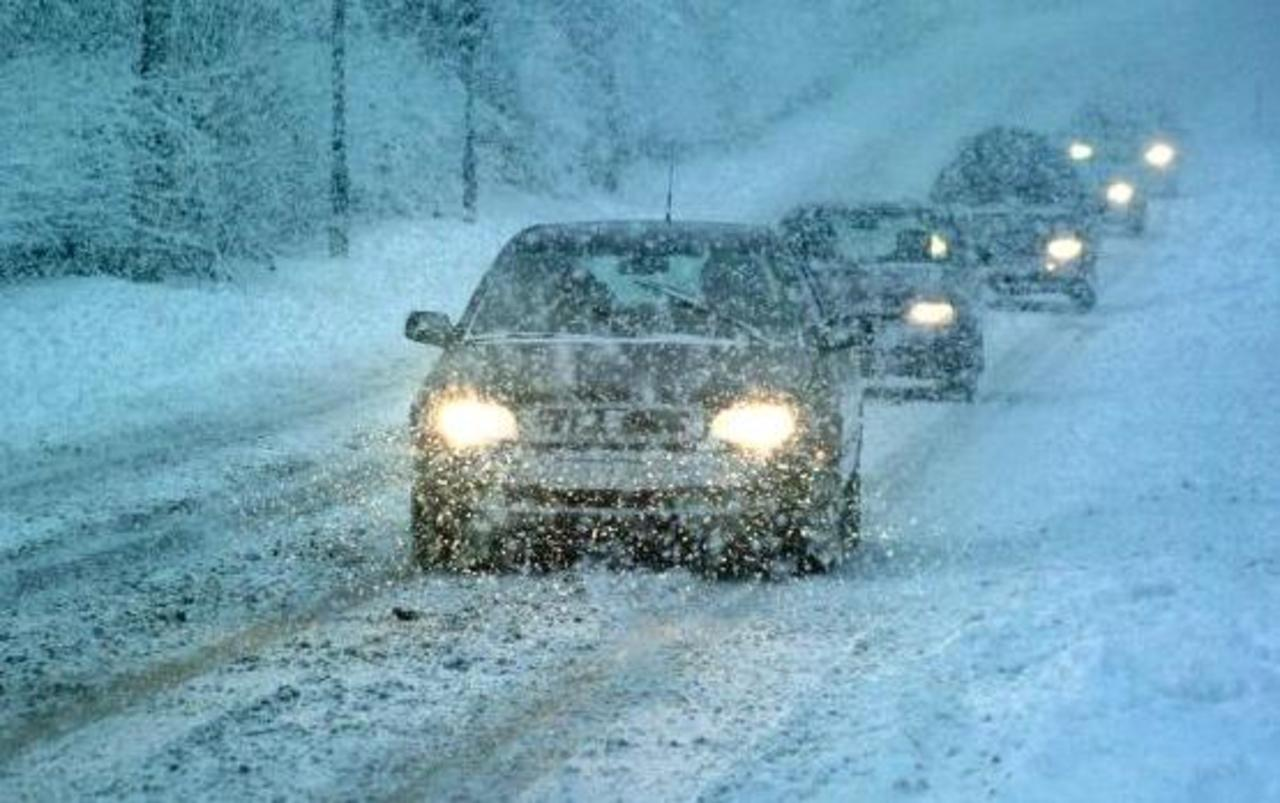car: (395, 207, 958, 588), (782, 197, 982, 406), (936, 133, 1086, 317), (1064, 101, 1184, 192), (1061, 127, 1143, 233)
